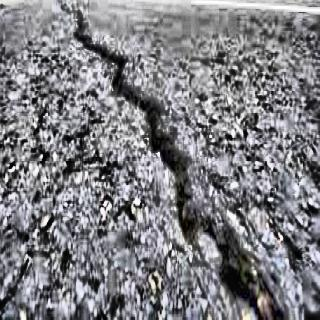crack: (72, 9, 290, 318)
